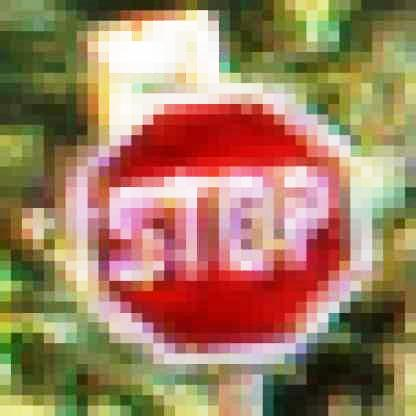Stop Sign: (72, 87, 372, 364)
